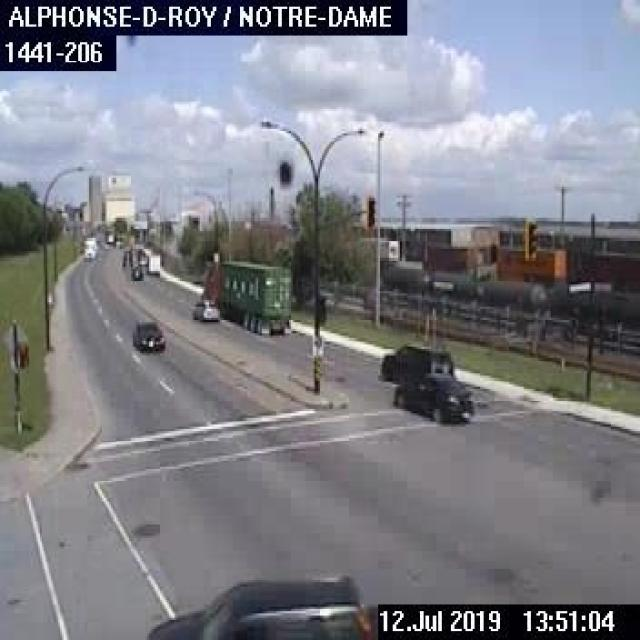vehicle: (146, 571, 374, 638), (194, 260, 293, 336), (387, 368, 472, 424), (376, 337, 454, 385), (128, 318, 166, 353), (190, 297, 218, 321), (80, 233, 104, 260), (146, 252, 159, 274), (128, 266, 141, 278)
